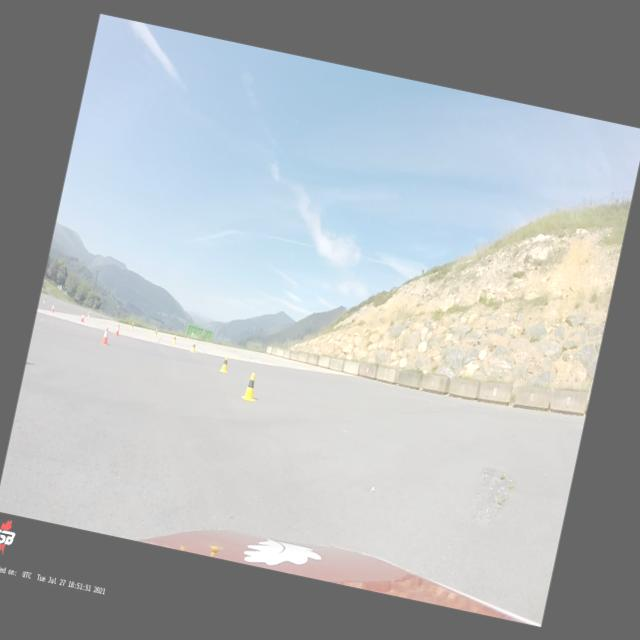orange_cone: (100, 326, 110, 345), (114, 324, 121, 336), (80, 312, 86, 322), (50, 303, 55, 313)
yellow_cone: (240, 371, 261, 402), (218, 354, 230, 372), (190, 341, 197, 352), (152, 328, 158, 338), (171, 334, 177, 343), (42, 296, 46, 304), (86, 311, 90, 319), (130, 322, 134, 330)
